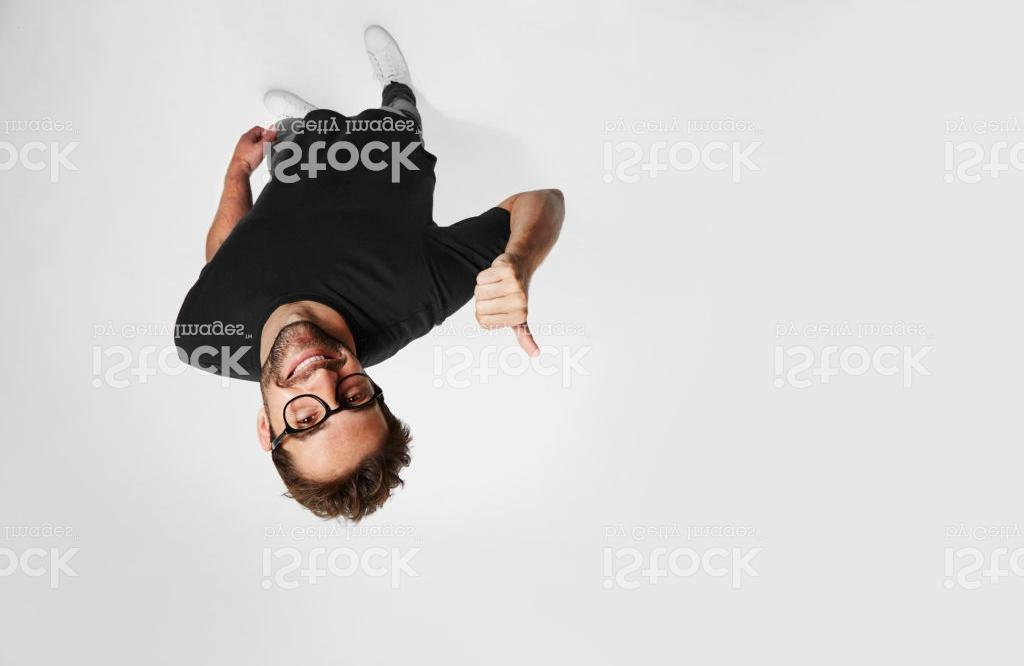thumbsdown: (473, 256, 543, 357)
